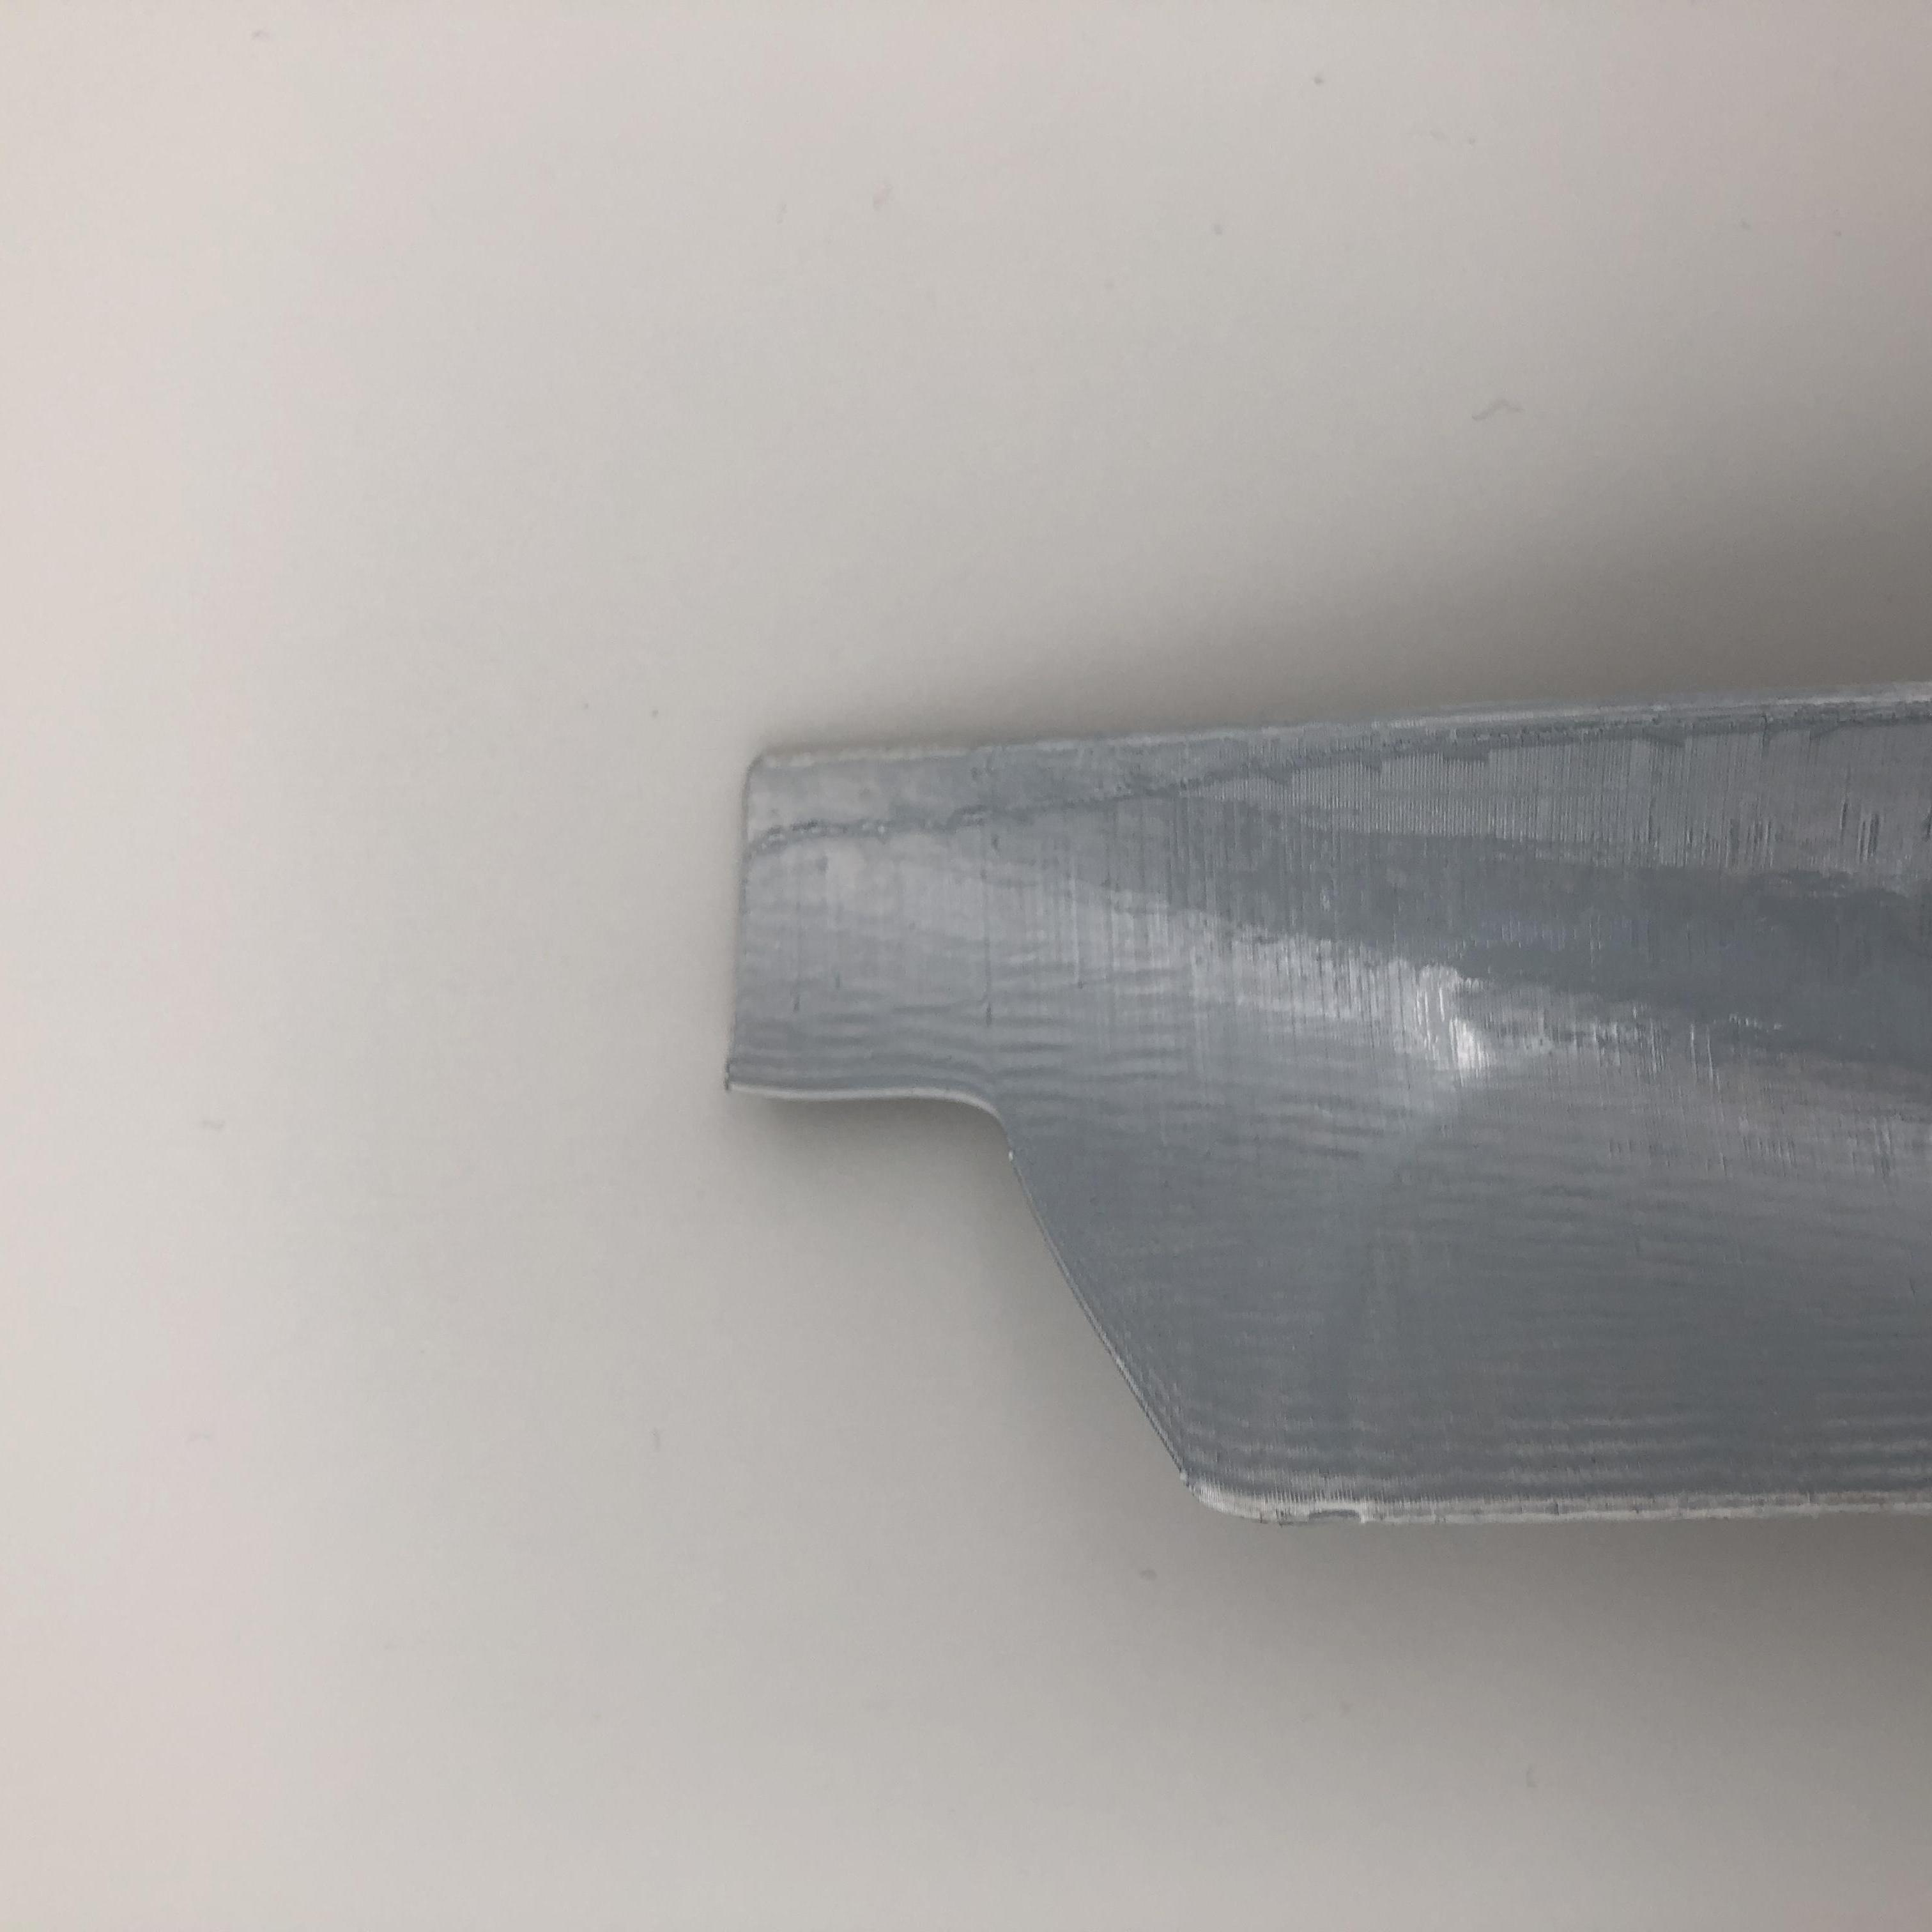fracture: (720, 1067, 1279, 1518)
